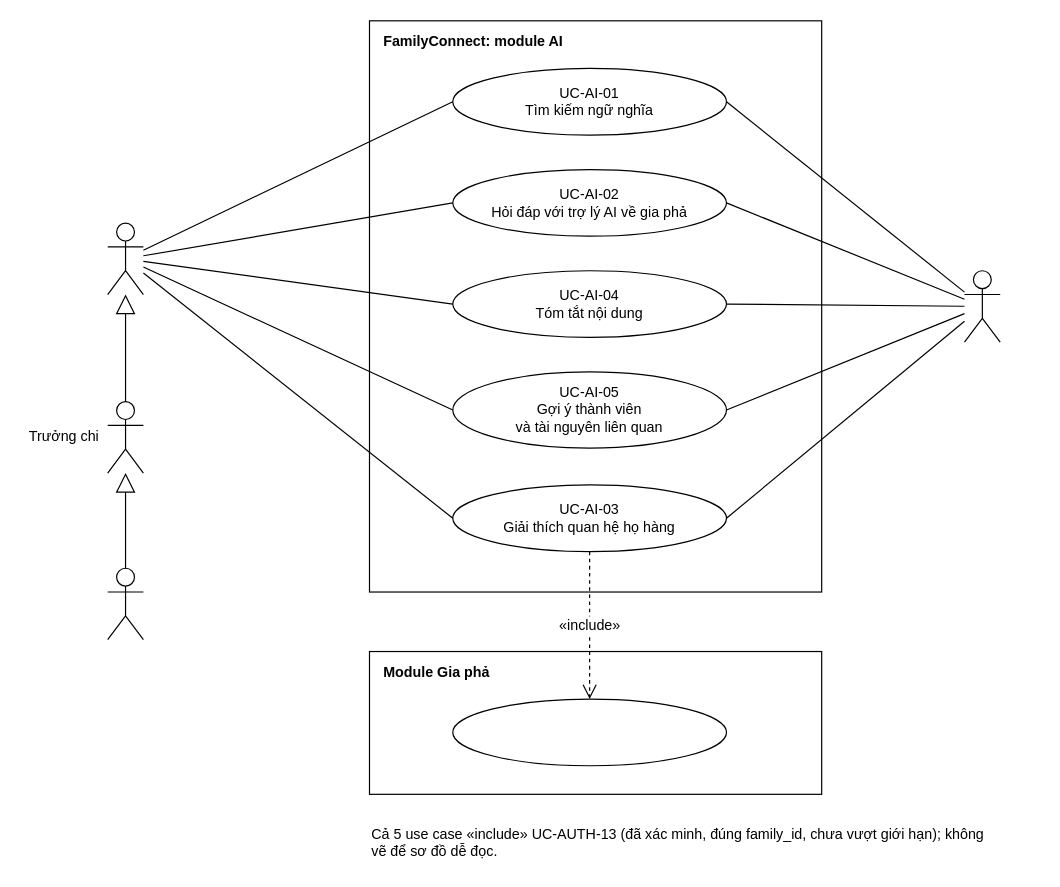
Some shapes in this 1060 by 887 pixel diagram are drawn without their labels. Here are the shapes that lost their labels. From the top down, the centre of each, then its label:
At (125,258): "Thành viên đã xác minh".
At (981,306): "Dịch vụ Gemini (embedding, LLM)".
At (125,603): "Quản trị hệ thống".
At (589,732): "UC-GEN-08 Truy vấn quan hệ họ hàng".
